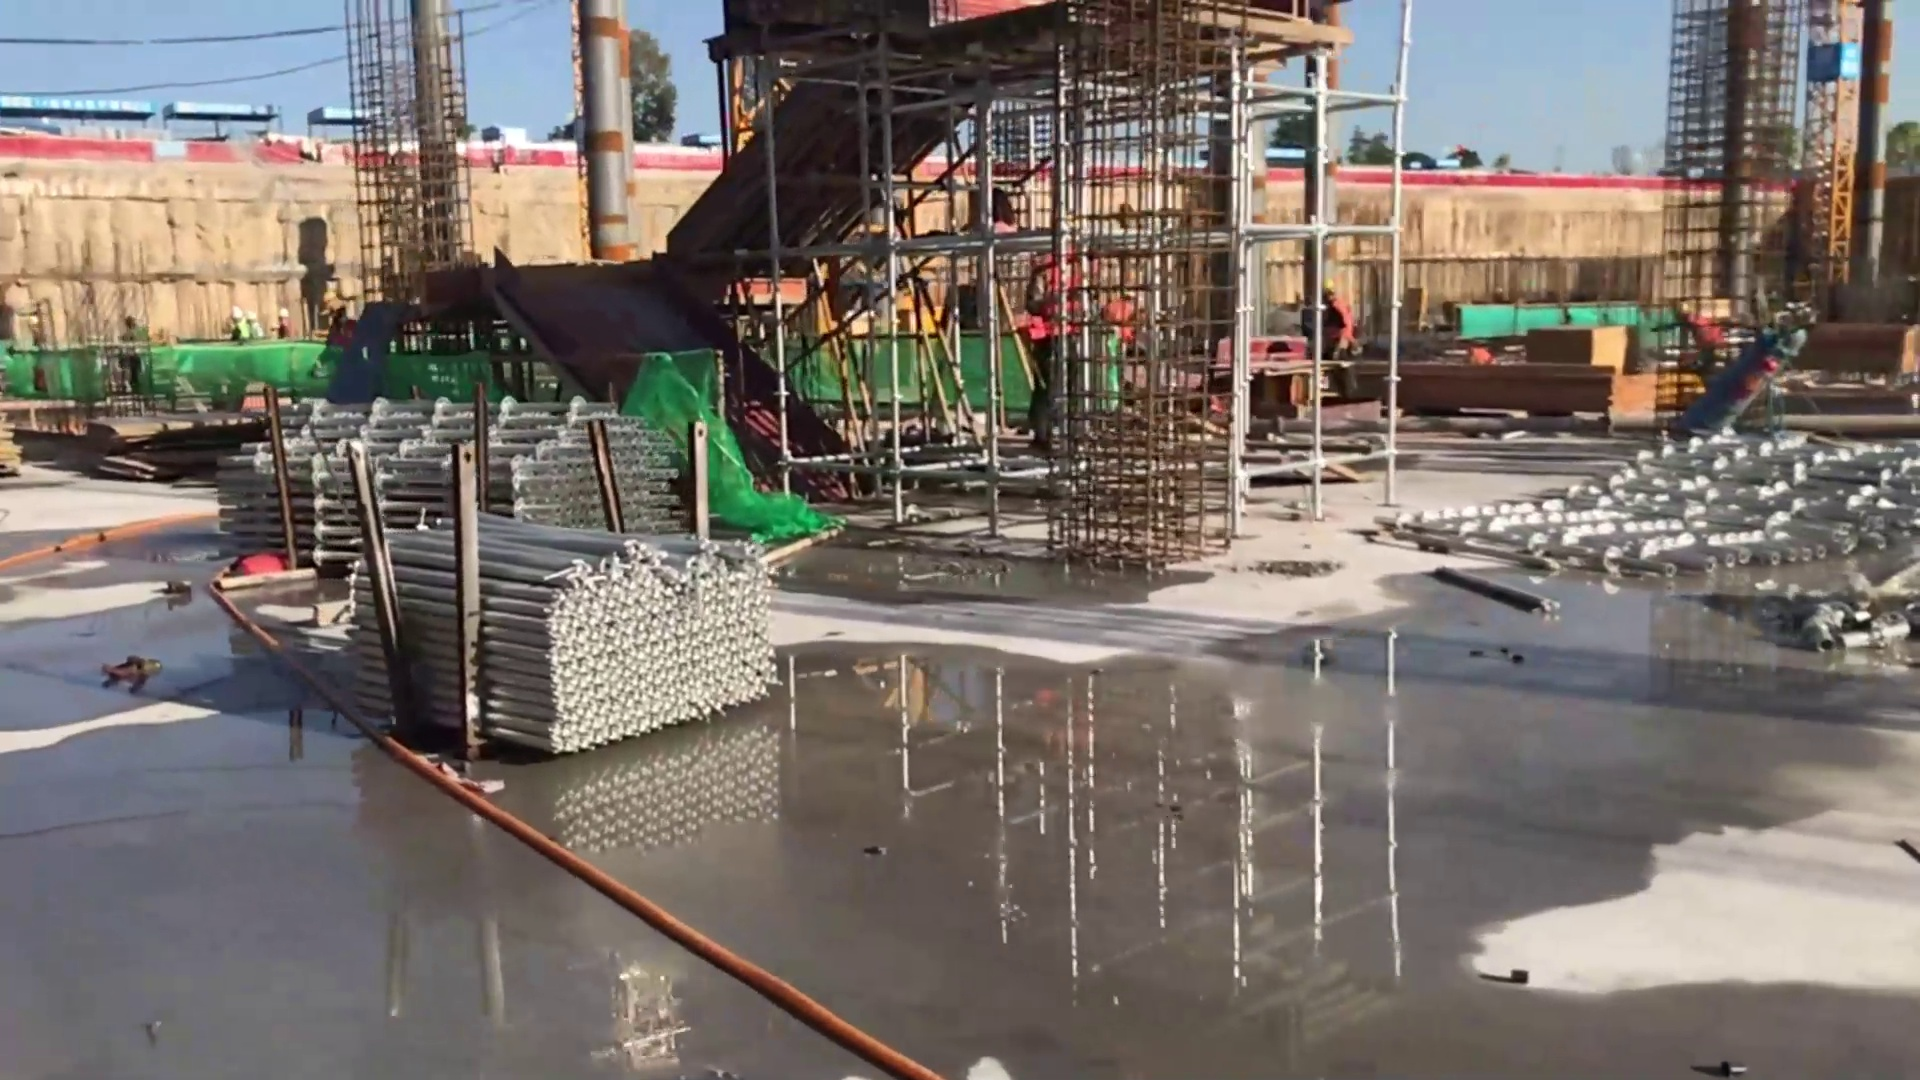person: (1321, 279, 1365, 369), (1671, 303, 1721, 369)
scaffold: (351, 518, 788, 757), (221, 399, 686, 570), (1483, 433, 1920, 556)
